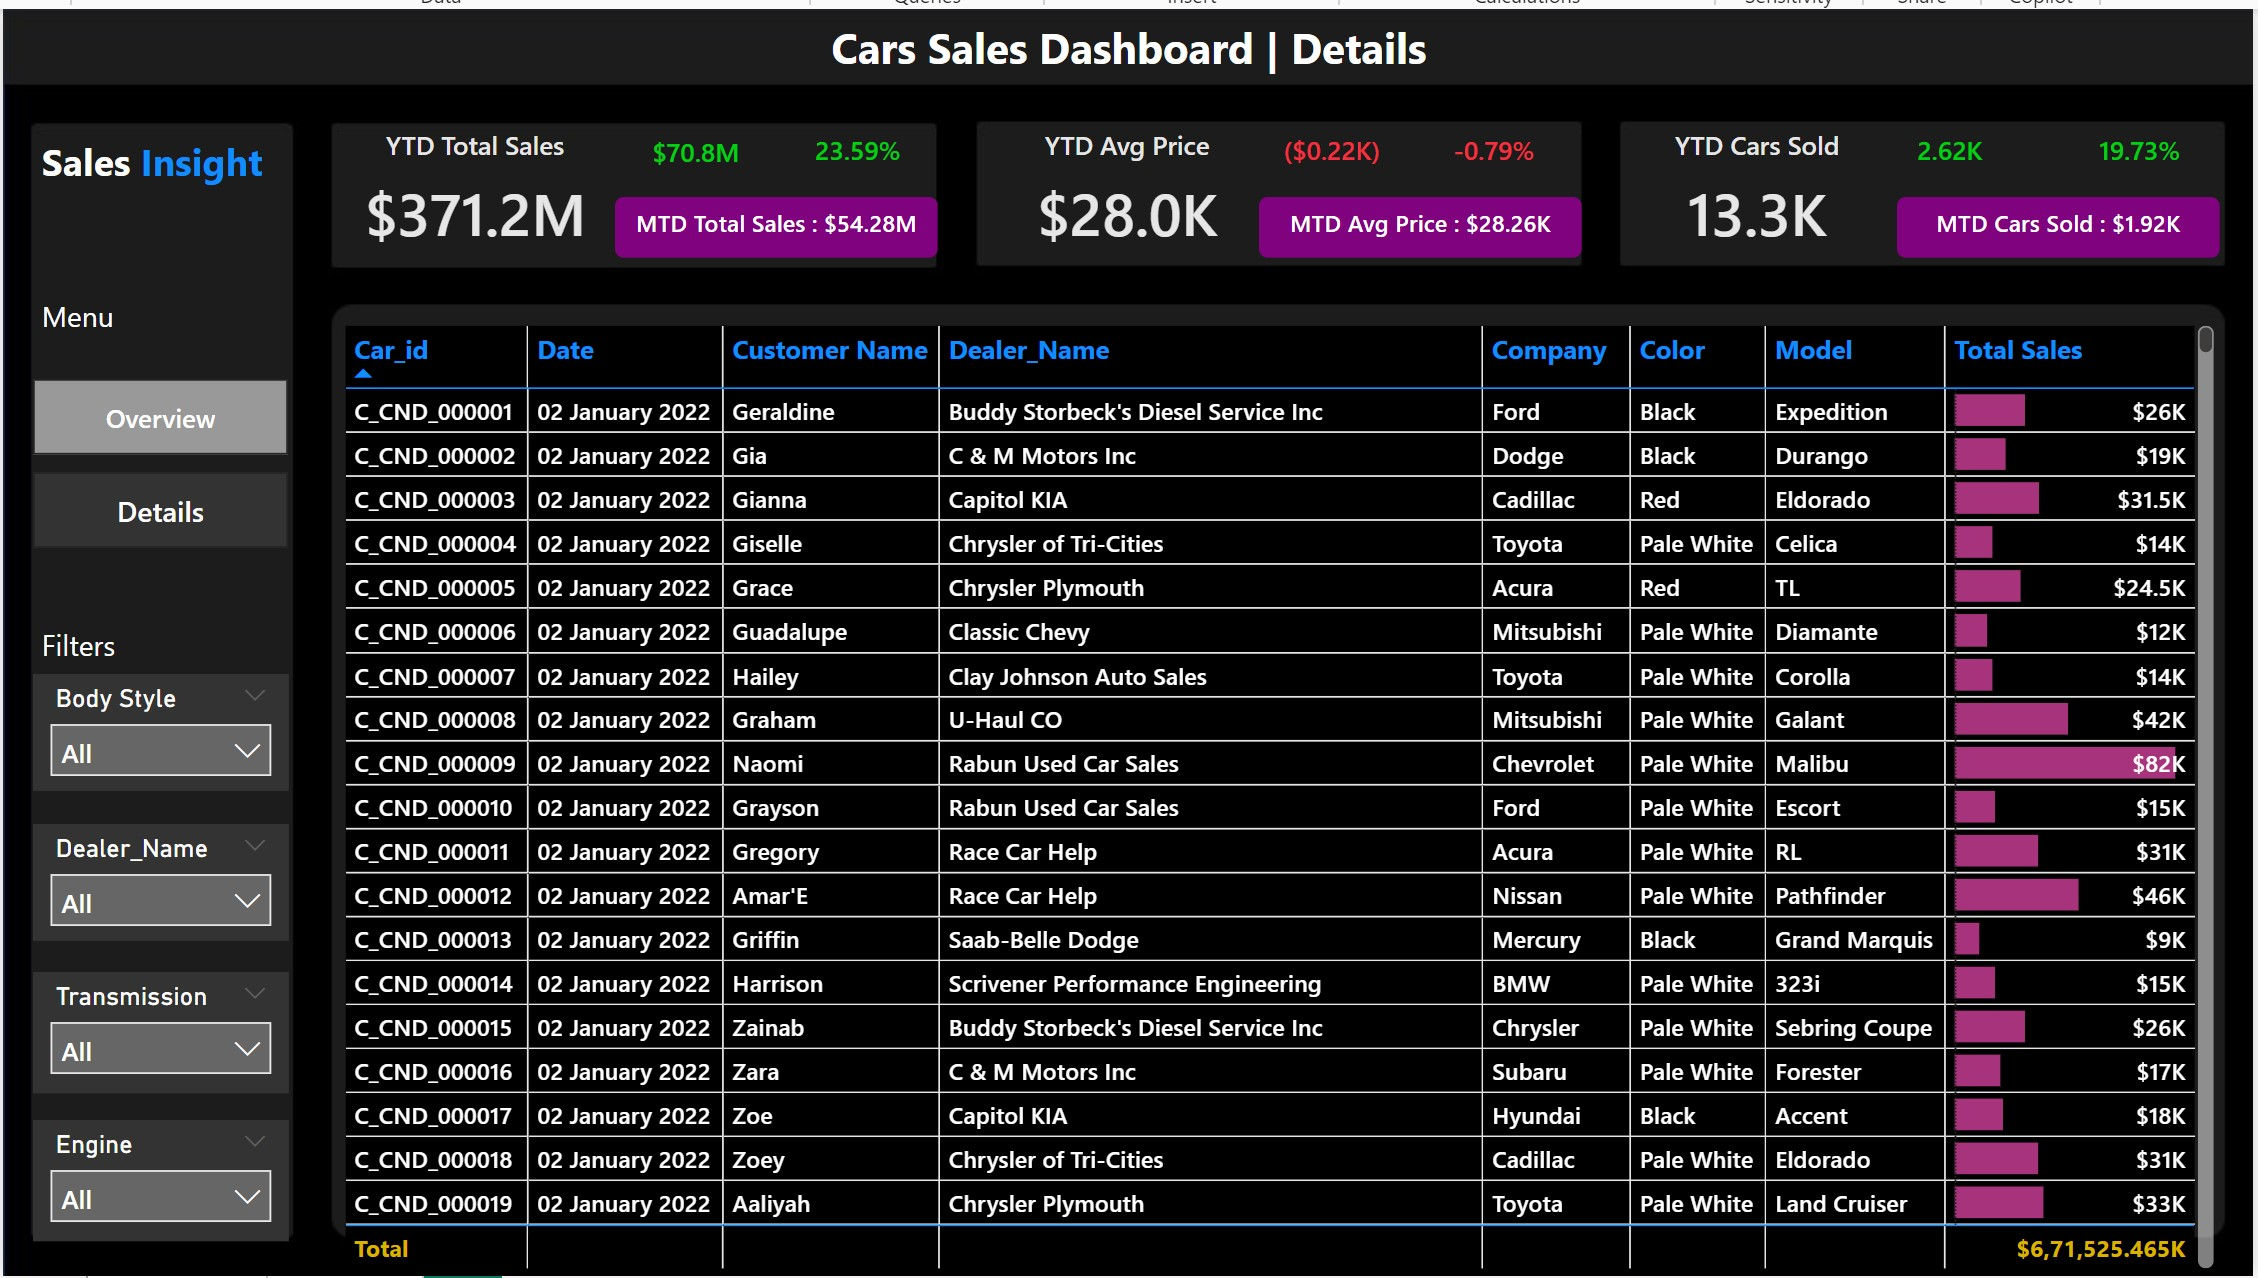

Layout of this report page (visuals, bound fields, positions):
{"tool":"powerbi","page":{"name":"Details","canvas":[1280,720],"ordinal":1},"visuals":[{"type":"card","title":"YTD Total Sales","fields":{"Values":["car_data.YTD Total Sales"]},"box":[188.7,67.6,159.4,79],"z":0},{"type":"card","fields":{"Values":["car_data.Sales Difference"]},"box":[348.3,66.7,91.7,33.3],"z":1000},{"type":"card","fields":{"Values":["car_data.YoY Sales Growth"]},"box":[439.8,66.3,91.8,33.1],"z":2000},{"type":"card","fields":{"Values":["car_data.MTD KPI"]},"box":[348,107.1,183.6,34.4],"z":3000},{"type":"card","title":"YTD Avg Price","fields":{"Values":["car_data.YTD Avg Price"]},"box":[559.7,67.6,159.4,79],"z":4000},{"type":"card","fields":{"Values":["car_data.Avg Price Difference"]},"box":[710.1,66.3,91.8,33.1],"z":5000},{"type":"card","fields":{"Values":["car_data.YoY Avg Price Growth"]},"box":[801.9,66.3,91.8,33.1],"z":6000},{"type":"card","fields":{"Values":["car_data.MTD Avg Price KPI"]},"box":[713.9,107.1,183.6,34.4],"z":7000},{"type":"card","title":"YTD Cars Sold","fields":{"Values":["car_data.YTD Cars Sold"]},"box":[917.9,67.6,159.4,79],"z":8000},{"type":"card","fields":{"Values":["car_data.Cars Sold Diff"]},"box":[1060.7,66.3,91.8,33.1],"z":9000},{"type":"card","fields":{"Values":["car_data.YoY Car Sold Growth"]},"box":[1169.1,66.3,91.8,33.1],"z":10000},{"type":"card","fields":{"Values":["car_data.MTD Cars Sold KPI"]},"box":[1077.3,107.1,183.6,34.4],"z":11000},{"type":"textbox","box":[489.6,0,447.5,51],"z":12000},{"type":"slicer","fields":{"Values":["car_data.Body Style"]},"box":[16.6,377.4,145.3,66.3],"z":13000},{"type":"slicer","fields":{"Values":["car_data.Dealer_Name"]},"box":[16.6,462.8,145.3,66.3],"z":14000},{"type":"slicer","fields":{"Values":["car_data.Transmission"]},"box":[16.6,546.9,145.3,68.8],"z":15000},{"type":"slicer","fields":{"Values":["car_data.Engine"]},"box":[16.6,631.1,145.3,68.8],"z":16000},{"type":"tableEx","fields":{"Values":["car_data.Car_id","car_data.Date","car_data.Customer Name","car_data.Dealer_Name","car_data.Company","car_data.Color","car_data.Model","car_data.Total Sales"]},"box":[188.7,174.7,1073.5,545.7],"z":17000},{"type":"textbox","box":[16.6,67.6,145.3,39.5],"z":18000},{"type":"pageNavigator","box":[16.6,210.4,145.3,96.9],"z":18001},{"type":"textbox","box":[16.6,344.2,62.5,33.1],"z":18002},{"type":"textbox","box":[16.6,158.1,62.5,33.1],"z":18003}]}

Visuals, with their boxes on the page's 1280x720 design canvas (x1, y1, x2, y2). These are canvas units, not pixel positions in the 2258x1278 screenshot, which may show the page scaled, cropped or inside an application window:
"YTD Total Sales" card: <region>189, 68, 348, 147</region>
card - car_data.Sales Difference: <region>348, 67, 440, 100</region>
card - car_data.YoY Sales Growth: <region>440, 66, 532, 99</region>
card - car_data.MTD KPI: <region>348, 107, 532, 142</region>
"YTD Avg Price" card: <region>560, 68, 719, 147</region>
card - car_data.Avg Price Difference: <region>710, 66, 802, 99</region>
card - car_data.YoY Avg Price Growth: <region>802, 66, 894, 99</region>
card - car_data.MTD Avg Price KPI: <region>714, 107, 898, 142</region>
"YTD Cars Sold" card: <region>918, 68, 1077, 147</region>
card - car_data.Cars Sold Diff: <region>1061, 66, 1152, 99</region>
card - car_data.YoY Car Sold Growth: <region>1169, 66, 1261, 99</region>
card - car_data.MTD Cars Sold KPI: <region>1077, 107, 1261, 142</region>
textbox: <region>490, 0, 937, 51</region>
slicer - car_data.Body Style: <region>17, 377, 162, 444</region>
slicer - car_data.Dealer_Name: <region>17, 463, 162, 529</region>
slicer - car_data.Transmission: <region>17, 547, 162, 616</region>
slicer - car_data.Engine: <region>17, 631, 162, 700</region>
tableEx - car_data.Car_id x car_data.Date: <region>189, 175, 1262, 720</region>
textbox: <region>17, 68, 162, 107</region>
pageNavigator: <region>17, 210, 162, 307</region>
textbox: <region>17, 344, 79, 377</region>
textbox: <region>17, 158, 79, 191</region>
